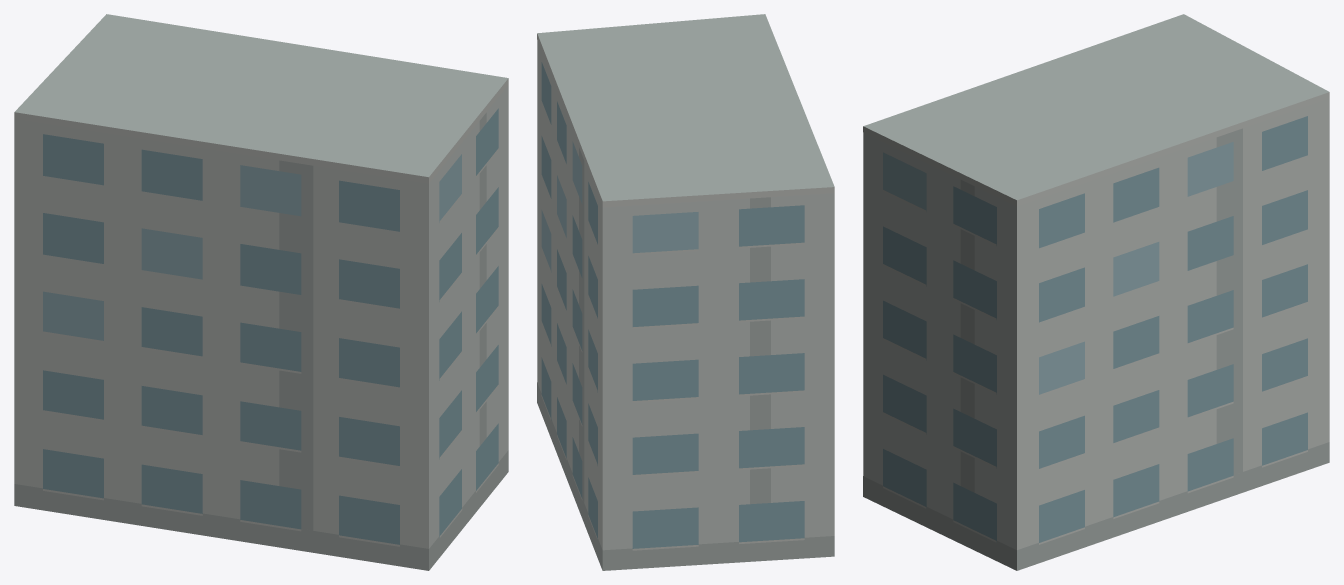
Rendered from survey-upis-32852016.glb.
3 views of the same model, side by side, from view 1: azimuth 30°, elevation 25°; view 2: azimuth 150°, elevation 25°; view 3: azimuth 270°, elevation 25° (orthographic). The views are drawn at different scales.
Visible parts, largest first — view 1: survey-upis-32852016.tmp; view 2: survey-upis-32852016.tmp; view 3: survey-upis-32852016.tmp.
Boxes of the visible parts, x1,y1,x2,y2 form: survey-upis-32852016.tmp: (14,14,508,570); survey-upis-32852016.tmp: (537,14,834,570); survey-upis-32852016.tmp: (863,14,1329,570).
Bounding box in the file's own units: 15.5 × 14.37 × 16.4.
